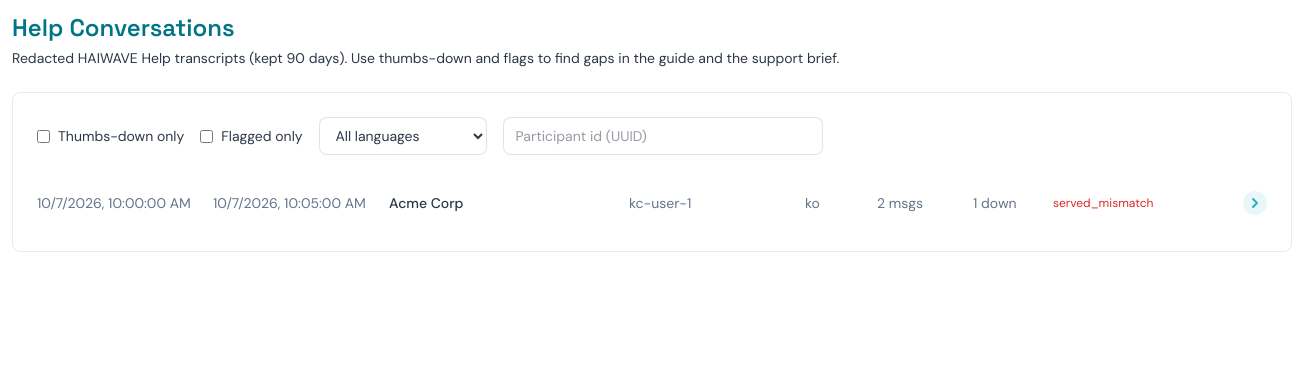
it: AdminHelpPage › renders transcript text as text, never as markup
Click the button with aria-label "Conversation 0b8a5a52-58b6-4a8e-9a39-9a1d4c7f1f10" at (652, 203), box [37,179,1267,227]
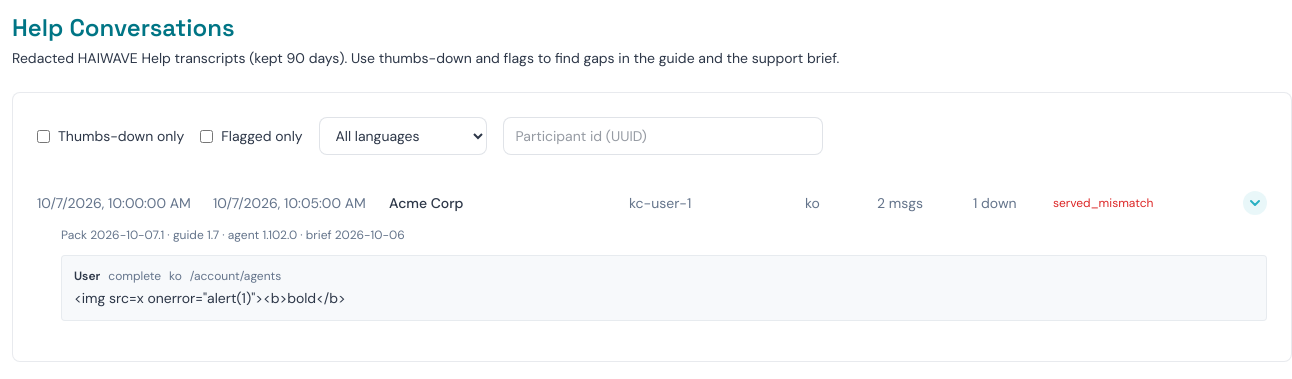
Expected: the text "<img src=x onerror=\"alert(1)\"><b>bold</b>" is shown, [74,289,346,307]
